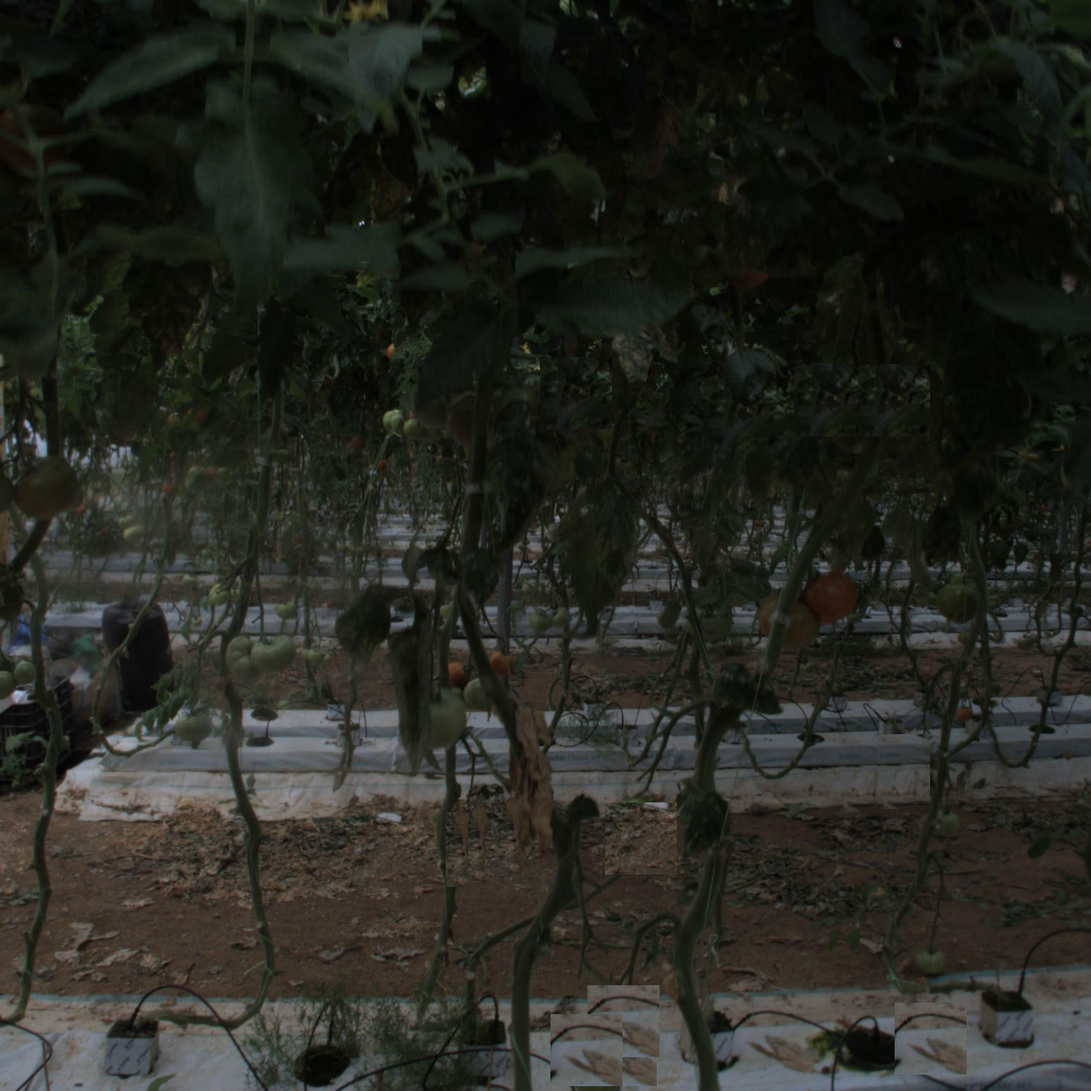fully-ripe: (800, 566, 856, 622)
unripe: (13, 456, 79, 521), (763, 592, 819, 649), (409, 689, 465, 746), (255, 633, 296, 675), (226, 639, 267, 681), (938, 582, 977, 621)
